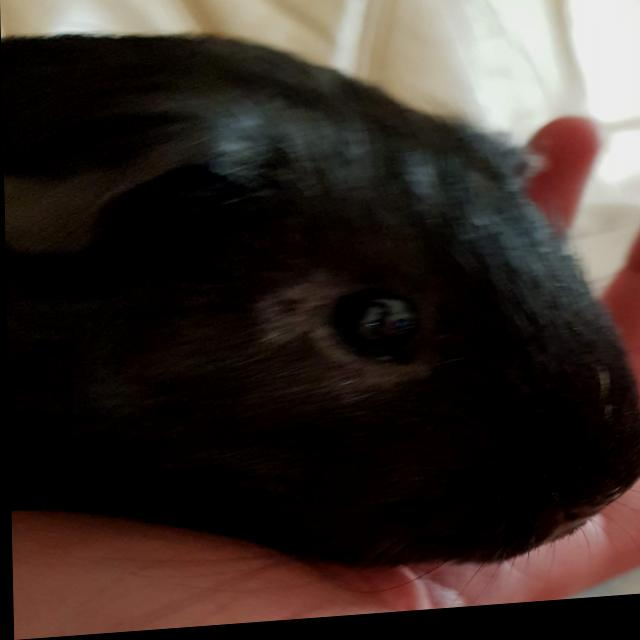guinea pig: (1, 0, 640, 603)
